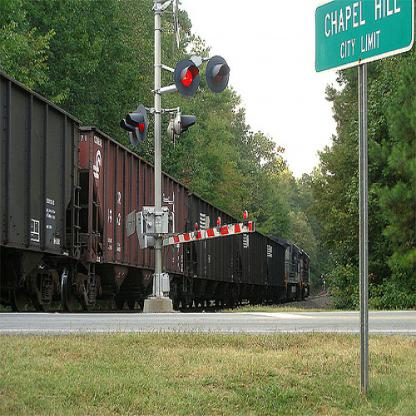train: (0, 69, 311, 313)
